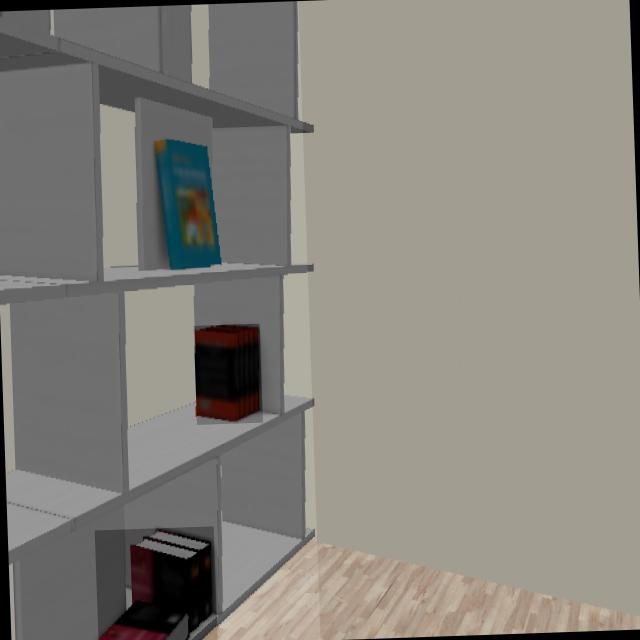book: (101, 529, 216, 640), (152, 140, 220, 271), (193, 325, 261, 422)
bookshelf: (0, 1, 307, 640)
